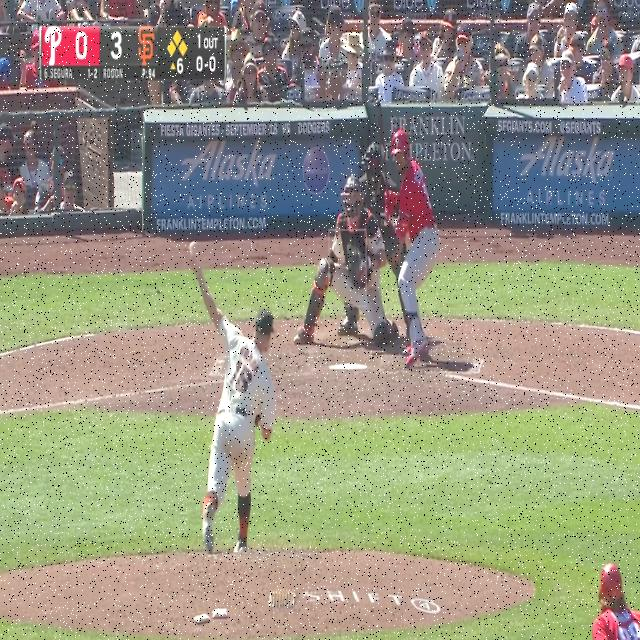baseball: (189, 240, 199, 255)
